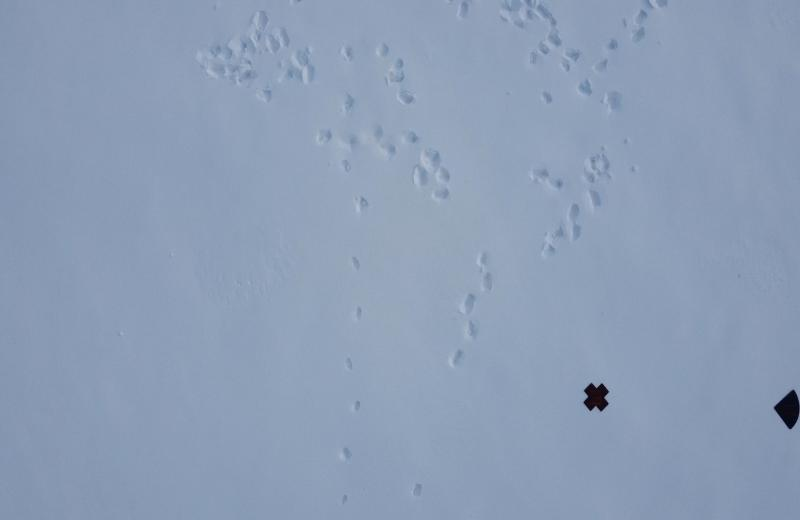Cross: (580, 379, 609, 416)
Quarter Circle: (773, 385, 800, 432)
